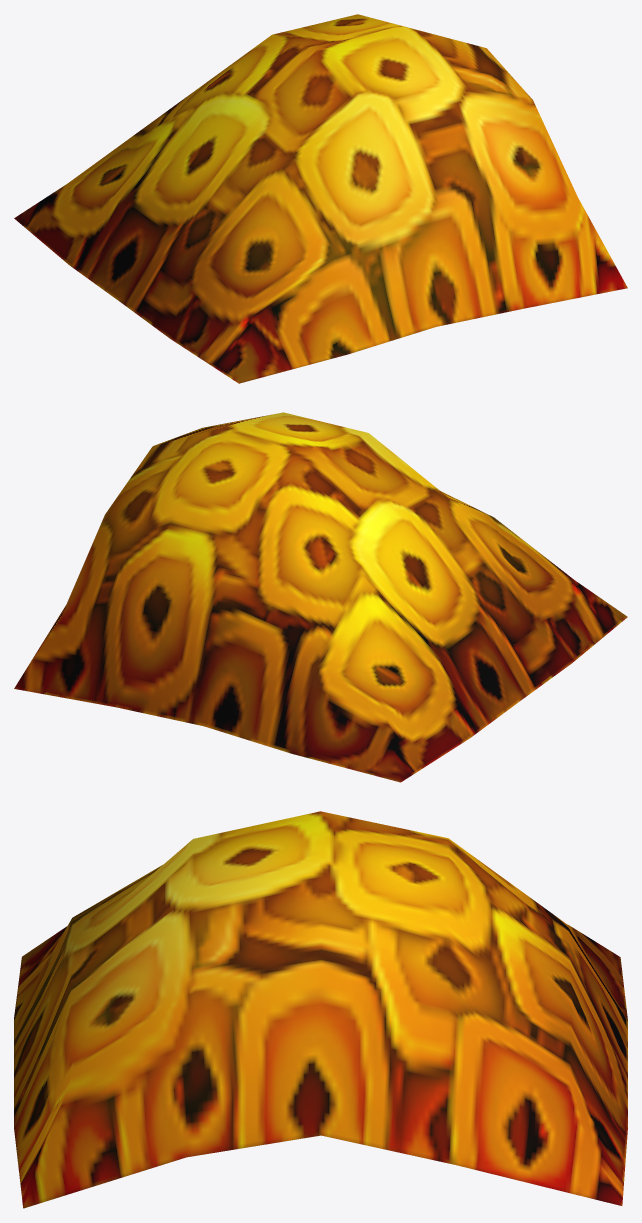
File: Treasury_Half.FBX
3 renders of one model, top to bottom at view 1: azimuth 30°, elevation 25°; view 2: azimuth 150°, elevation 25°; view 3: azimuth 270°, elevation 25°, orthographic. The views are drawn at different scales.
Visible parts, largest first — view 1: Treasury_Half; view 2: Treasury_Half; view 3: Treasury_Half.
Part boxes in pixels (left/top/right/bottom): Treasury_Half: left=14, top=14, right=627, bottom=383; Treasury_Half: left=14, top=412, right=627, bottom=782; Treasury_Half: left=14, top=811, right=627, bottom=1208.
Size of the model in its own units: 111 by 54.43 by 111.
